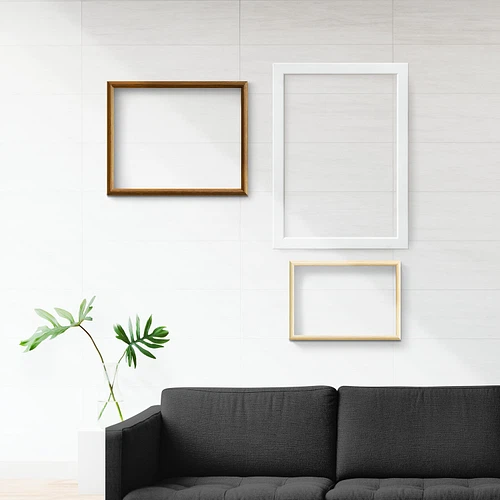large plant: (25, 298, 170, 450)
sofa: (102, 383, 499, 499)
wall art: (269, 59, 411, 251), (103, 78, 252, 198), (285, 257, 403, 344)
